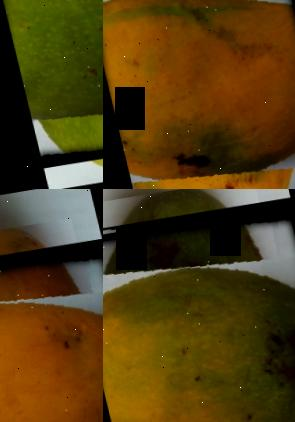PartiallyRipe: (103, 199, 295, 422)
Ripe: (103, 0, 295, 189), (0, 240, 103, 422)
Unripe: (0, 0, 103, 165)
